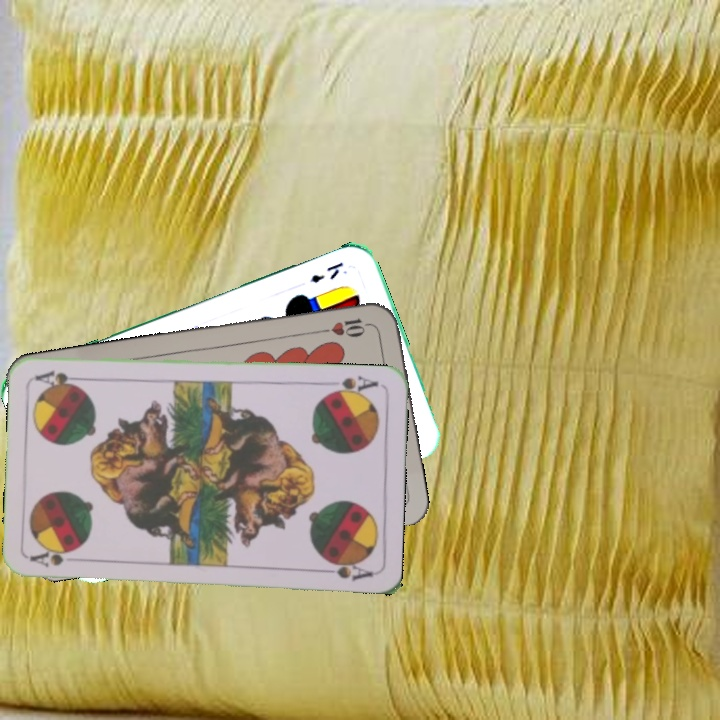EK: (306, 258, 346, 286)
H10: (315, 314, 374, 338)
SA: (323, 371, 381, 399), (27, 546, 86, 570)
